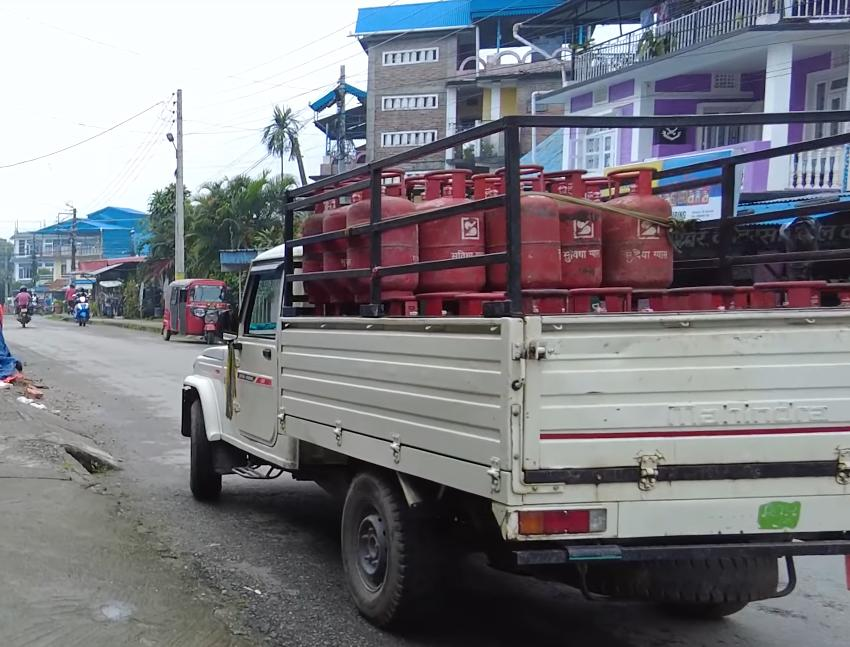auto_rickshaw: (156, 270, 234, 344)
bike: (7, 279, 38, 334)
scooter: (69, 289, 98, 327)
transport_vehicle: (165, 105, 850, 643)
